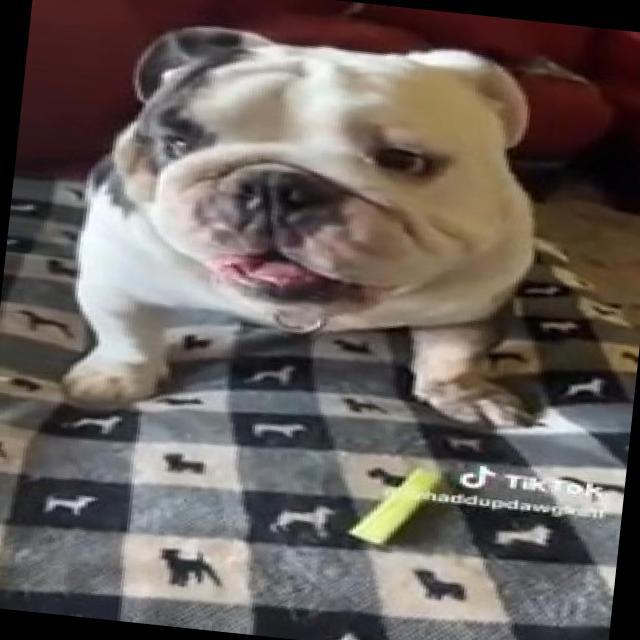dog: (38, 1, 638, 488)
